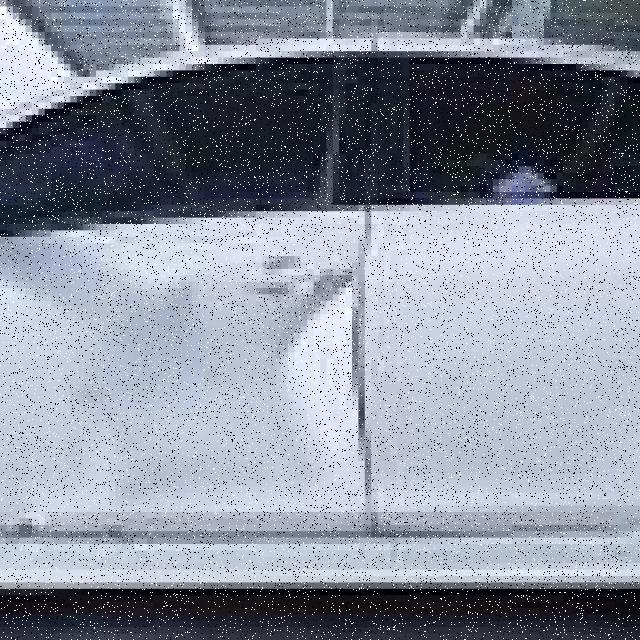doorouter-dent: (0, 224, 359, 538)
